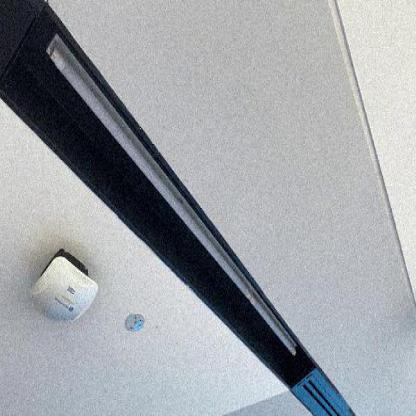light_off: (43, 25, 303, 364)
